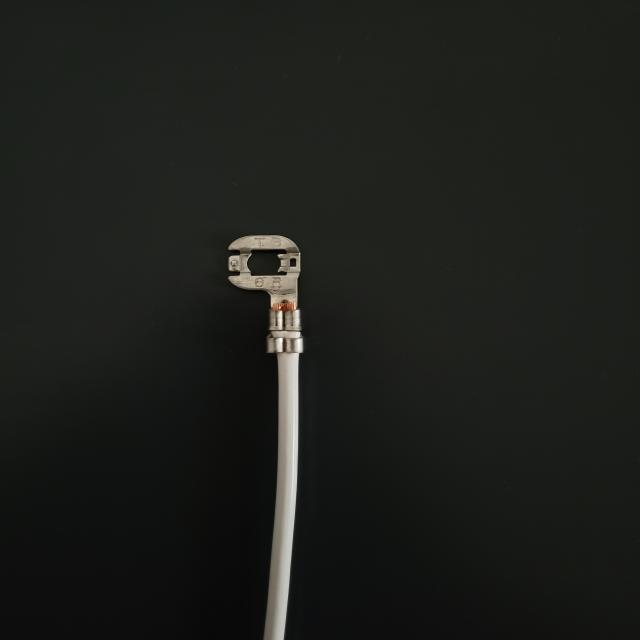good: (6, 5, 640, 640)
